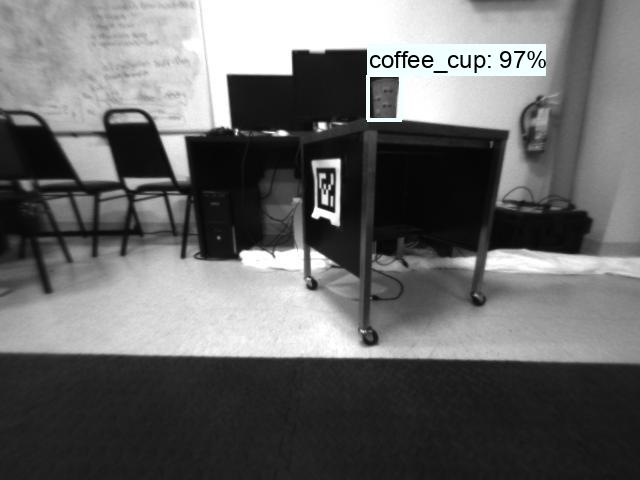coffee_cup: (367, 77, 401, 118)
